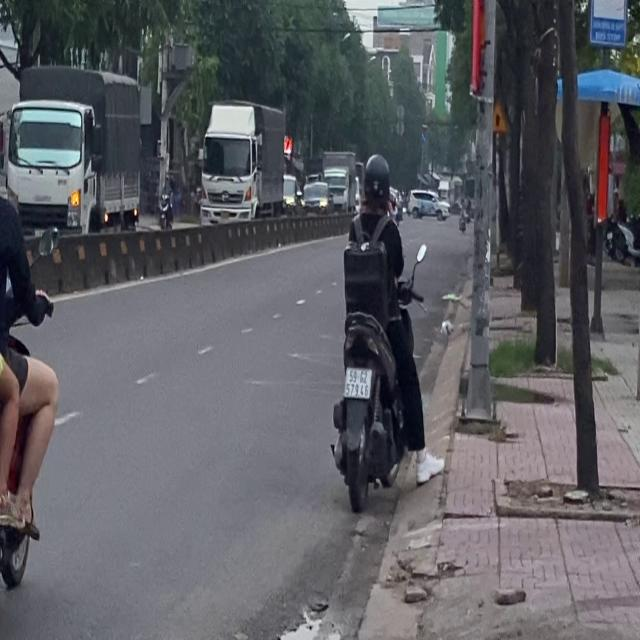helmet: (360, 152, 391, 212)
licenseplate: (328, 150, 426, 507)
nohelmet: (344, 366, 370, 395)
